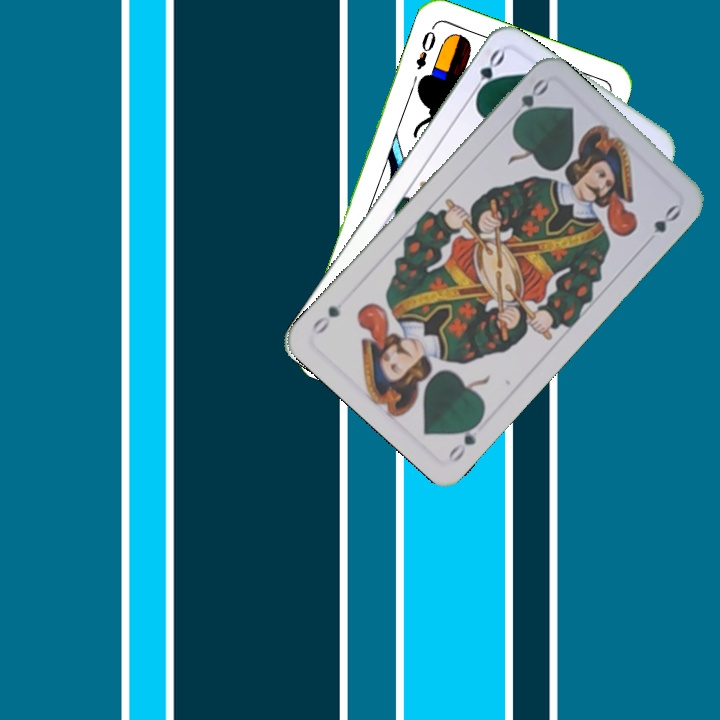EO: (412, 22, 439, 73)
GO: (466, 45, 508, 102), (506, 75, 551, 128), (444, 413, 486, 465)
